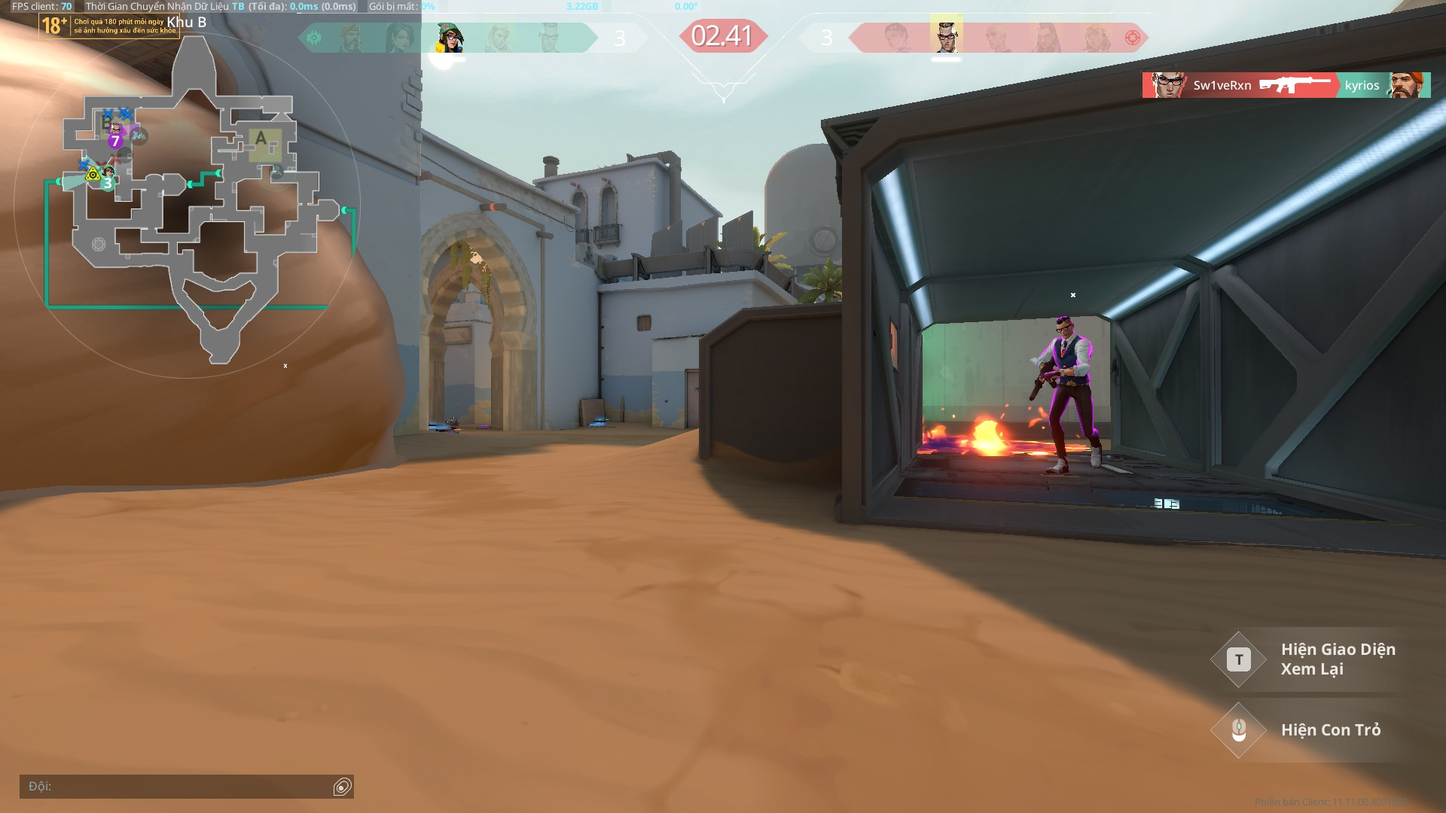body: (1048, 336, 1091, 379)
head: (1055, 315, 1076, 336)
